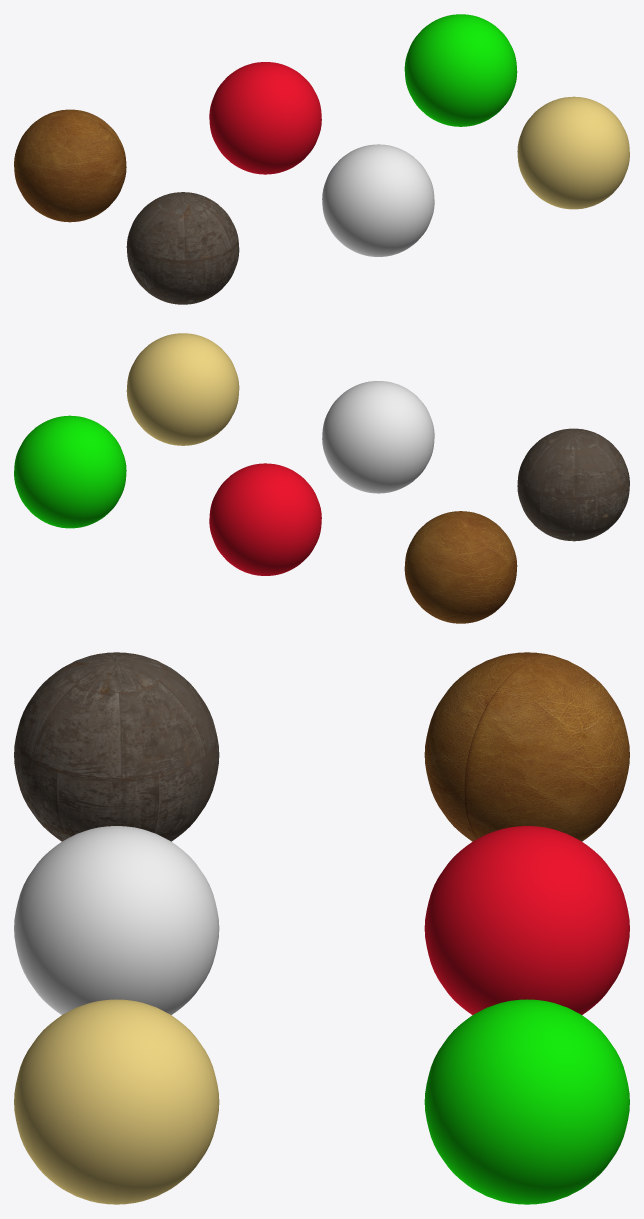
File: PBR.glb
3 renders of one model, top to bottom at view 1: azimuth 30°, elevation 25°; view 2: azimuth 150°, elevation 25°; view 3: azimuth 270°, elevation 25°, orthographic. The views are drawn at different scales.
Parts seen in each view (by area): view 1: Sphere.001, Sphere.004, Sphere.005, Sphere.007, Sphere.008, Sphere.006; view 2: Sphere.001, Sphere.004, Sphere.005, Sphere.007, Sphere.008, Sphere.006; view 3: Sphere.004, Sphere.008, Sphere.001, Sphere.005, Sphere.007, Sphere.006.
Part boxes in pixels (bbox=[...]): Sphere.001: bbox=[322, 144, 434, 256]; Sphere.004: bbox=[517, 96, 629, 209]; Sphere.005: bbox=[126, 192, 239, 304]; Sphere.007: bbox=[14, 109, 126, 222]; Sphere.008: bbox=[404, 14, 517, 126]; Sphere.006: bbox=[209, 62, 321, 174]; Sphere.001: bbox=[322, 381, 434, 493]; Sphere.004: bbox=[126, 333, 239, 445]; Sphere.005: bbox=[517, 428, 629, 541]; Sphere.007: bbox=[404, 511, 517, 623]; Sphere.008: bbox=[14, 415, 126, 528]; Sphere.006: bbox=[209, 463, 321, 575]; Sphere.004: bbox=[14, 999, 219, 1204]; Sphere.008: bbox=[424, 999, 629, 1204]; Sphere.001: bbox=[14, 826, 219, 1014]; Sphere.005: bbox=[14, 652, 219, 841]; Sphere.007: bbox=[424, 652, 629, 841]; Sphere.006: bbox=[424, 826, 629, 1014].
Size of the model in its own units: 5 by 1 by 3.
6 materials, 2 textured.
